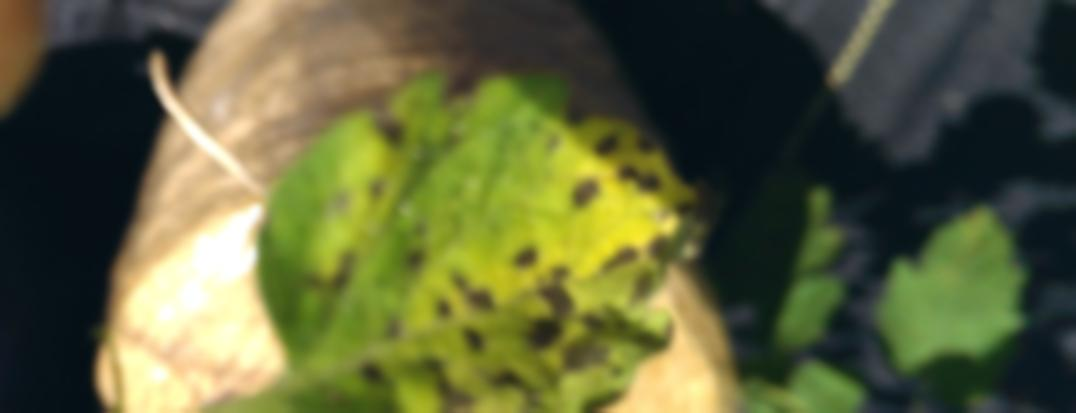Tomato Septoria leaf spot: (219, 11, 727, 413)
